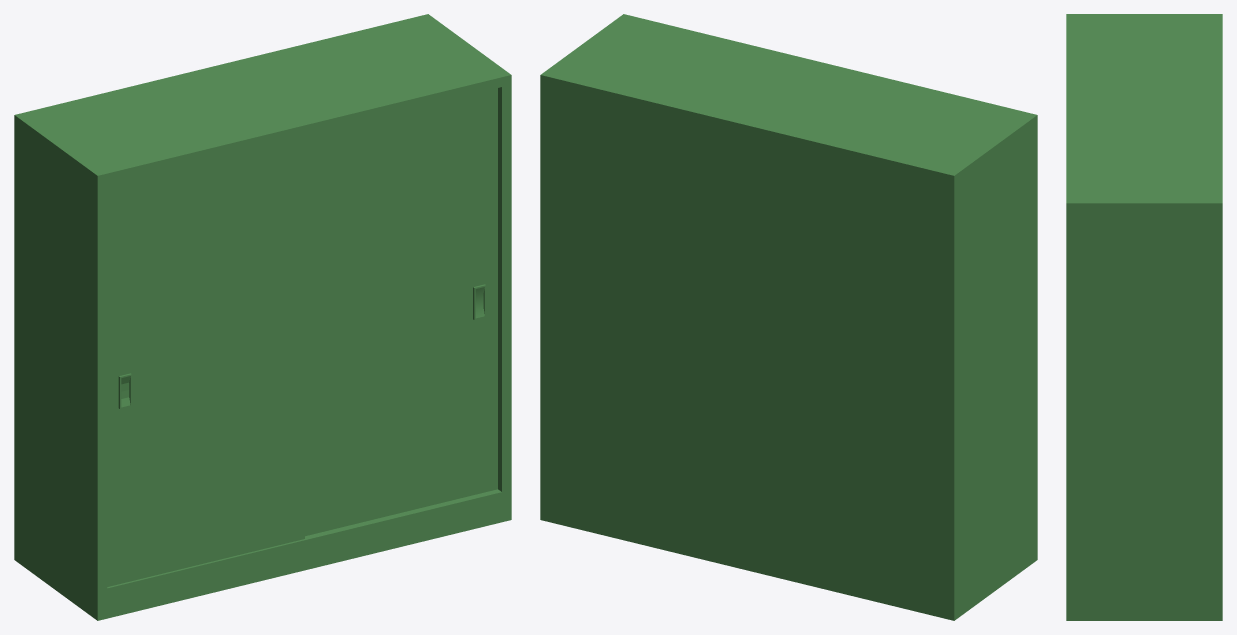
File: Armario Vacio 2.fbx
3 views of the same model, side by side, from view 1: azimuth 30°, elevation 25°; view 2: azimuth 150°, elevation 25°; view 3: azimuth 270°, elevation 25° (orthographic). The views are drawn at different scales.
Parts seen in each view (by area): view 1: Armario_Vacio_2; view 2: Armario_Vacio_2; view 3: Armario_Vacio_2.
Part boxes in pixels (left/top/right/bottom): Armario_Vacio_2: left=14, top=14, right=511, bottom=620; Armario_Vacio_2: left=540, top=14, right=1037, bottom=620; Armario_Vacio_2: left=1066, top=14, right=1222, bottom=620.
Size of the model in its own units: 1.75 by 1.8 by 0.6103.
